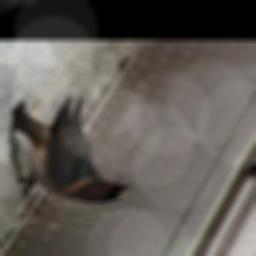Swallow: (5, 95, 131, 203)
